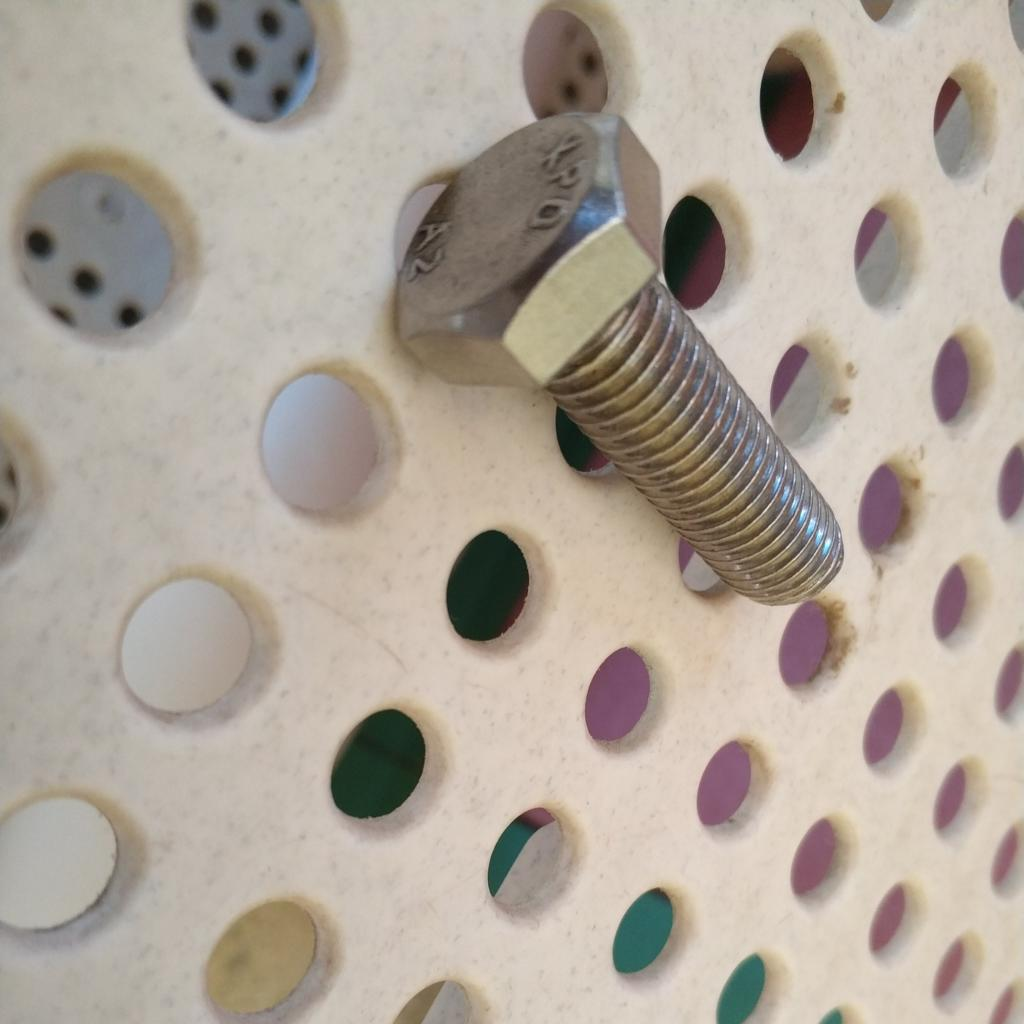screwtype2silver: (374, 105, 854, 635)
